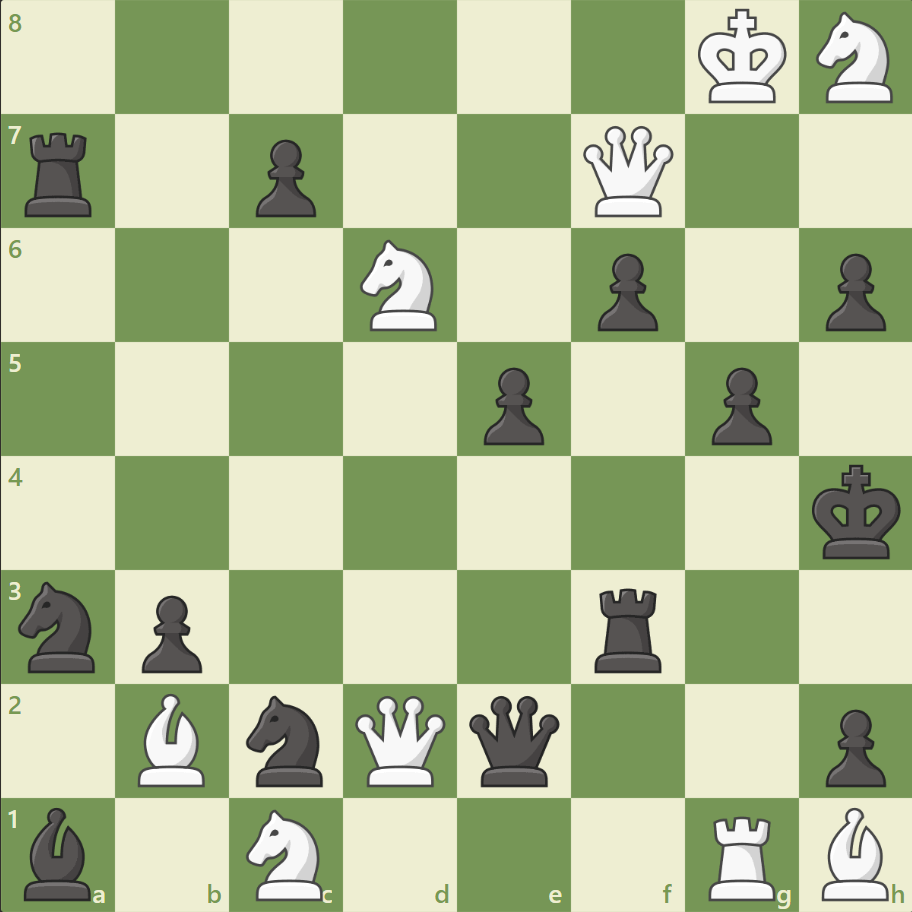B: (131, 687, 215, 790), (812, 801, 896, 904)
K: (692, 4, 792, 112)
N: (351, 234, 449, 337), (806, 7, 903, 110), (238, 802, 335, 904)
Q: (578, 122, 677, 222), (351, 690, 450, 789)
R: (700, 806, 783, 904)
b: (17, 801, 101, 904)
k: (806, 458, 906, 566)
n: (238, 688, 335, 791), (11, 575, 108, 677)
p: (247, 132, 322, 223), (474, 359, 549, 450), (701, 359, 776, 450), (133, 586, 208, 677), (588, 246, 662, 337), (815, 246, 889, 337), (815, 700, 889, 791)
q: (464, 690, 563, 789)
r: (19, 125, 102, 222), (587, 579, 670, 676)
